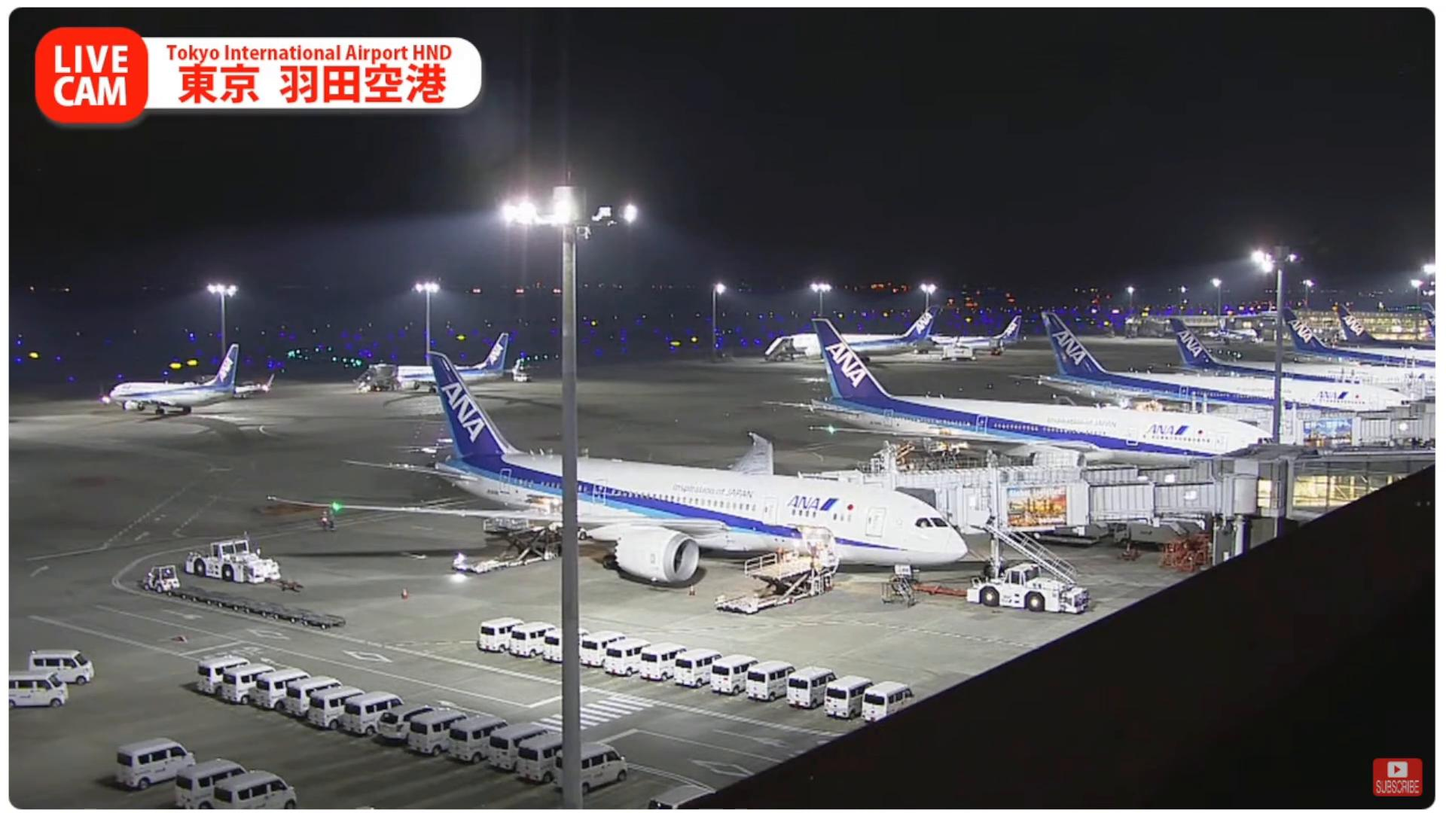APS: (965, 567, 1091, 615), (184, 537, 283, 584)
Aerobridge: (895, 475, 1256, 534), (792, 456, 1224, 487)
Airplane: (270, 351, 971, 589)
Dolly: (165, 584, 352, 628)
JCPL: (719, 559, 832, 615), (453, 527, 563, 572)
Tractor: (142, 567, 181, 594)
Window: (1290, 455, 1437, 521)
